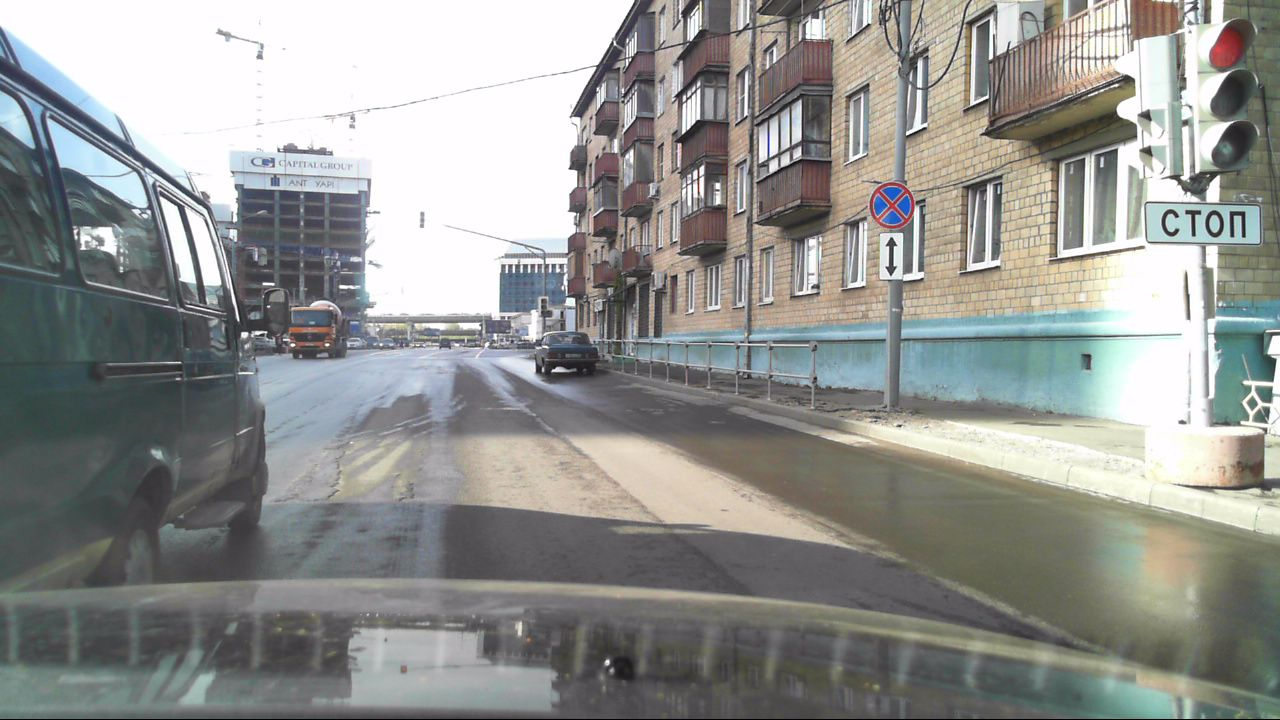No Parking: (871, 182, 915, 227)
